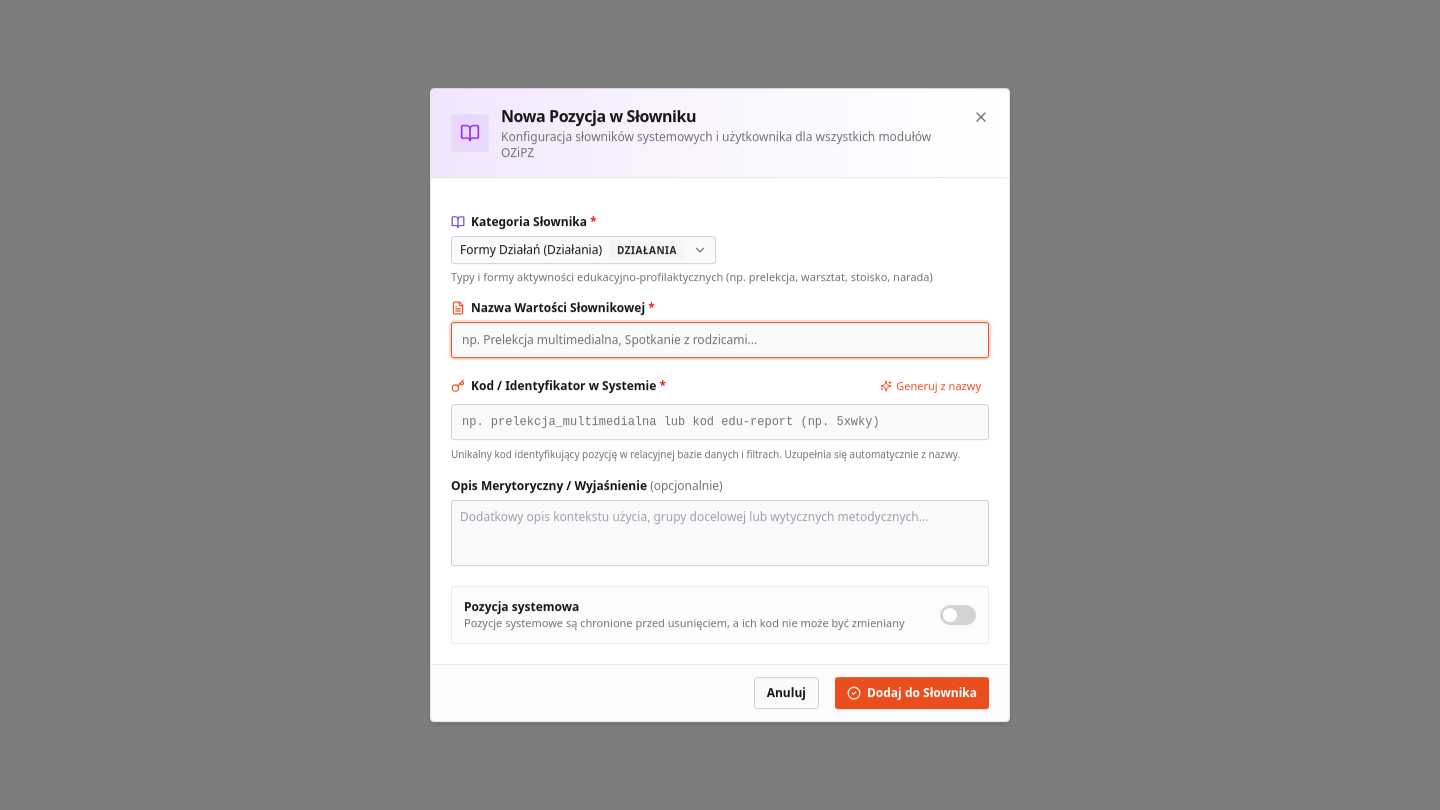
it: DictionaryDialog Component › auto-generates the code from the name and blocks duplicates within the category
The image size is (1440, 810).
In the field with placeholder "np. Prelekcja multimedialna, Spotkanie z rodzicami...": (720, 340) [451,322,989,358], type "Quiz wiedzy"
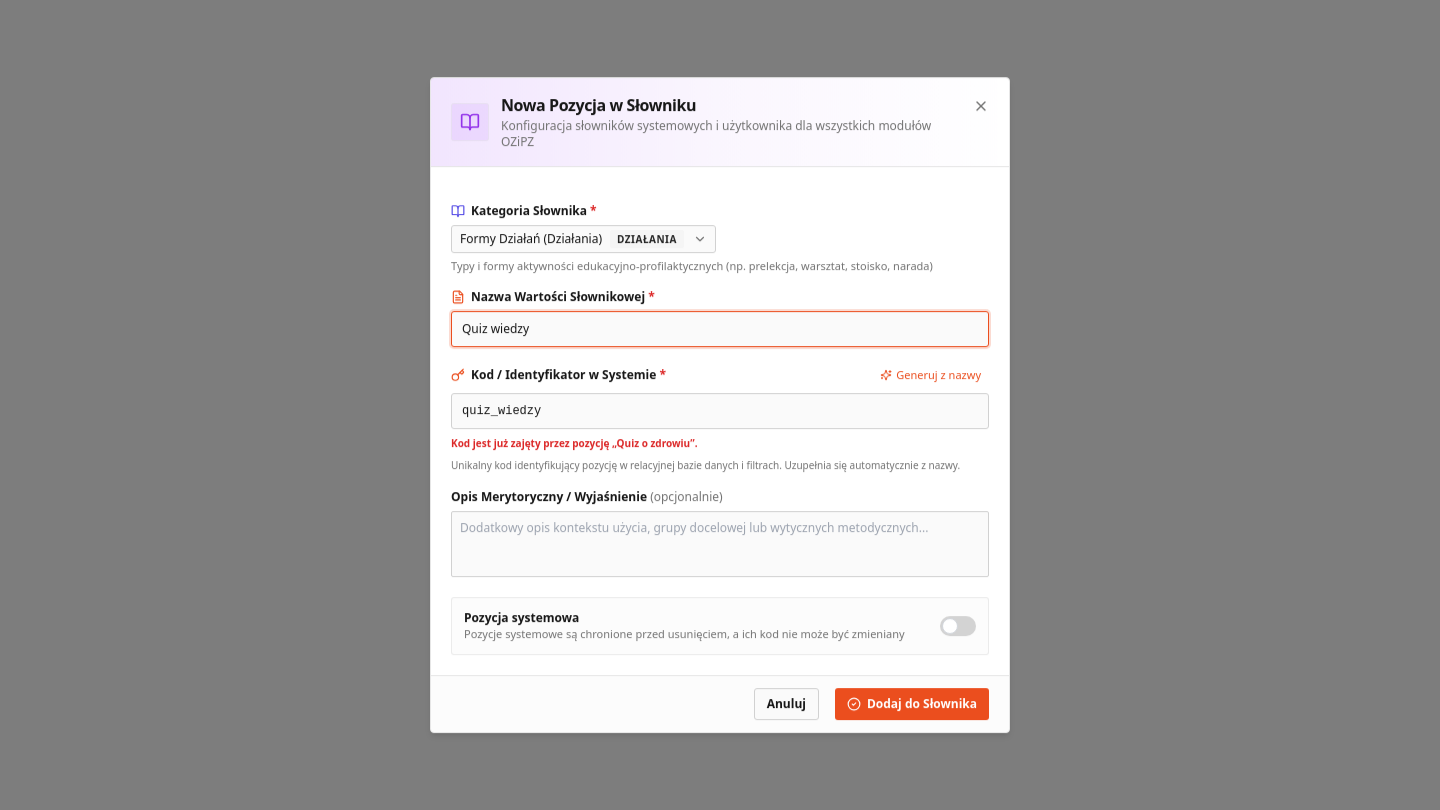
Check: the field showing "quiz_wiedzy" below "Kod / Identyfikator w Systemie" is shown, box [451,393,989,429]
Check: the text "Kod jest już zajęty przez pozycję „Quiz o zdrowiu”." is shown, box [451,436,698,450]
Click the button "Dodaj do Słownika": (912, 704) [835,688,989,720]
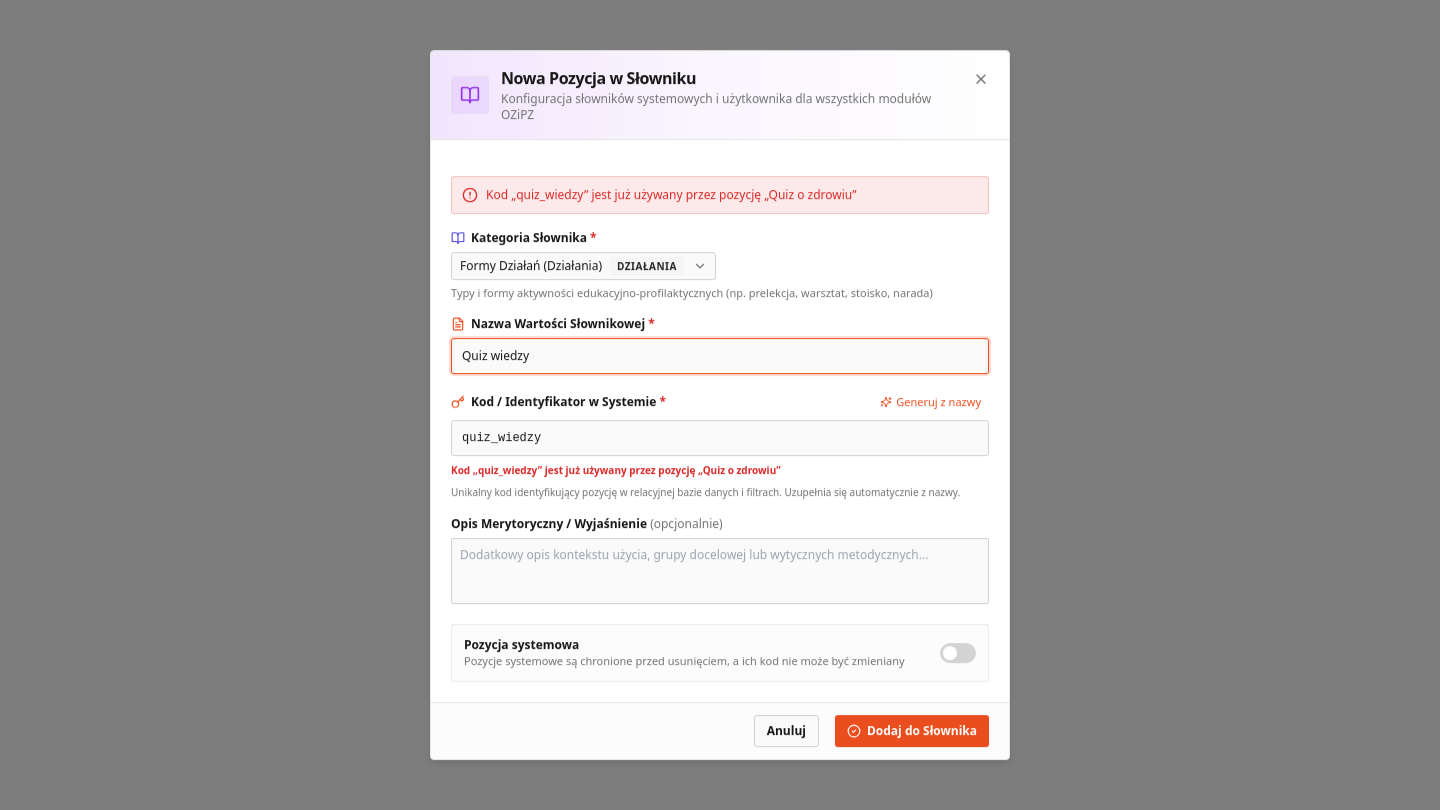
Check: the 1st text "jest już używany przez pozycję" is shown, box [486,186,857,203]
